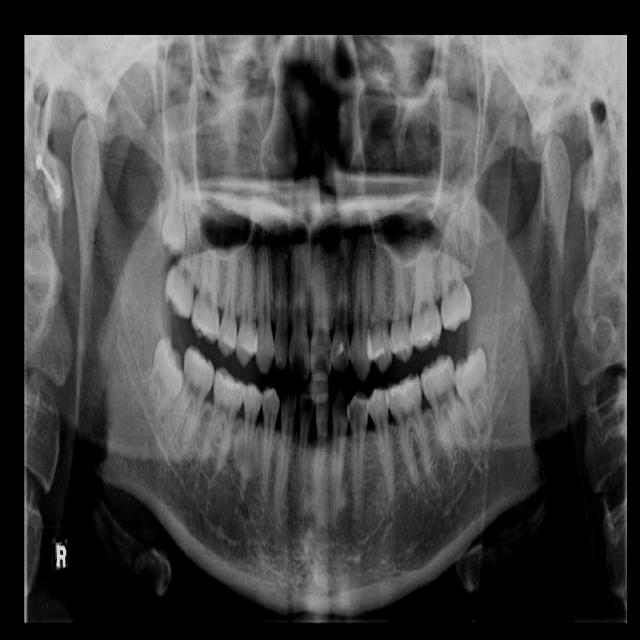impacted tooth: (454, 349, 495, 436), (157, 155, 188, 260)
